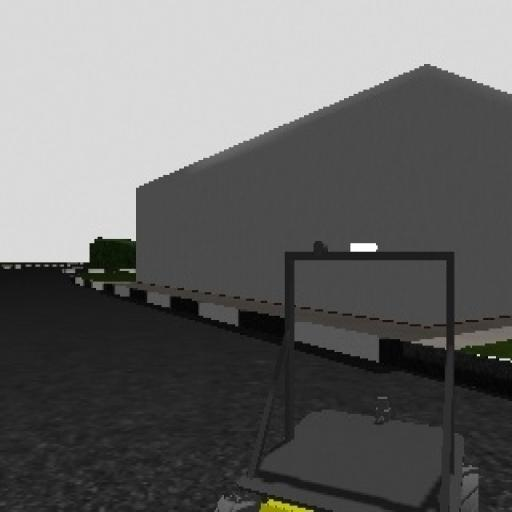huskya200: (197, 230, 484, 512)
